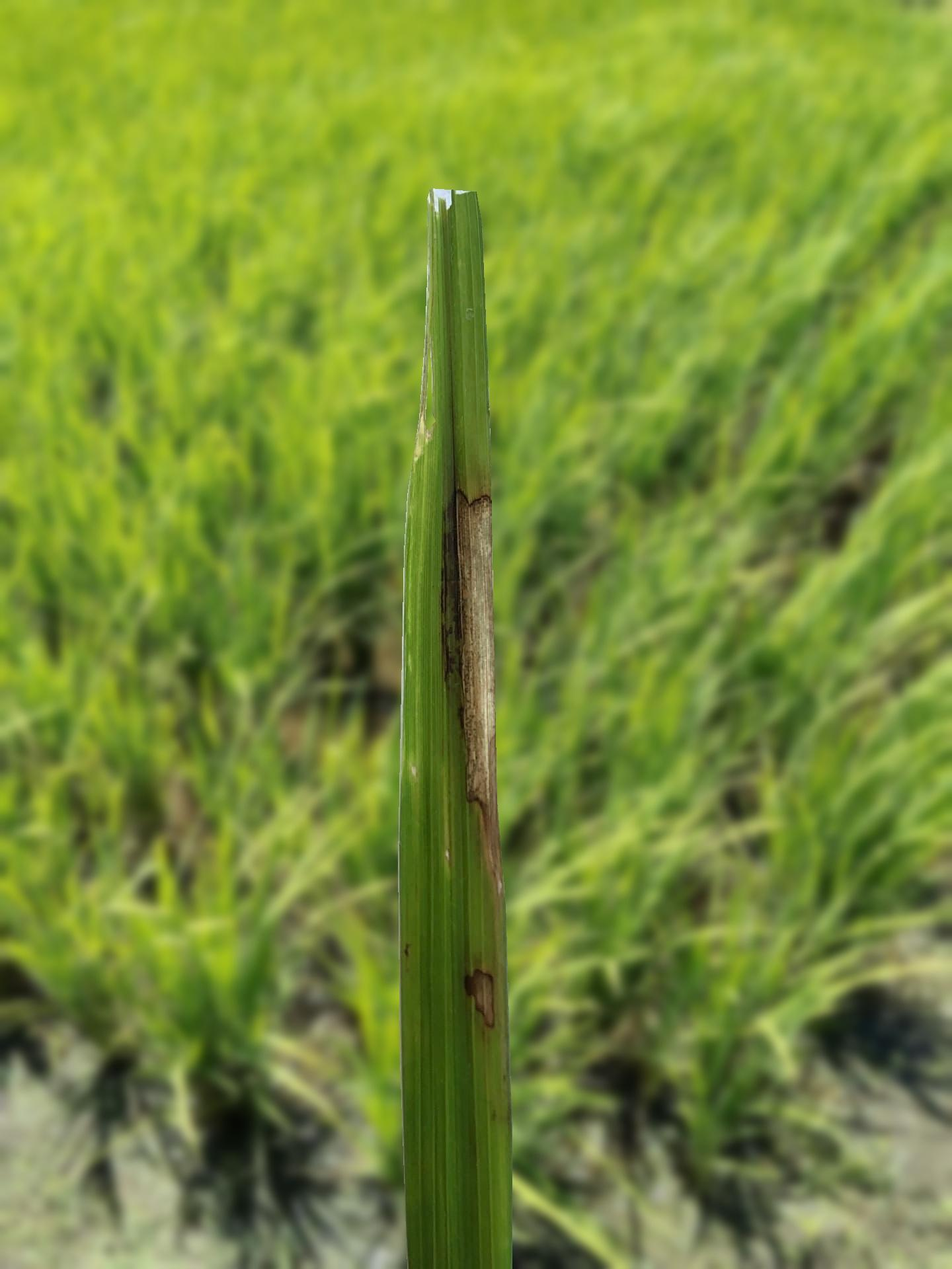BLB: (440, 488, 503, 914)
LEAF: (398, 188, 512, 1268)
